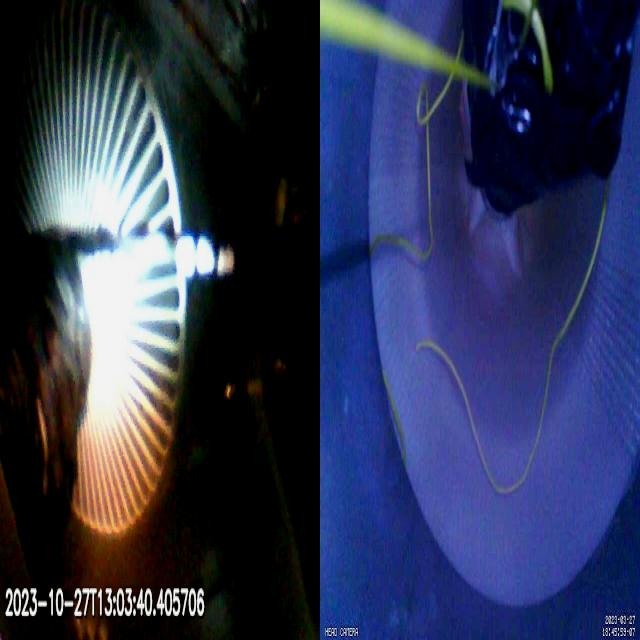white-dots: (175, 235, 235, 280)
